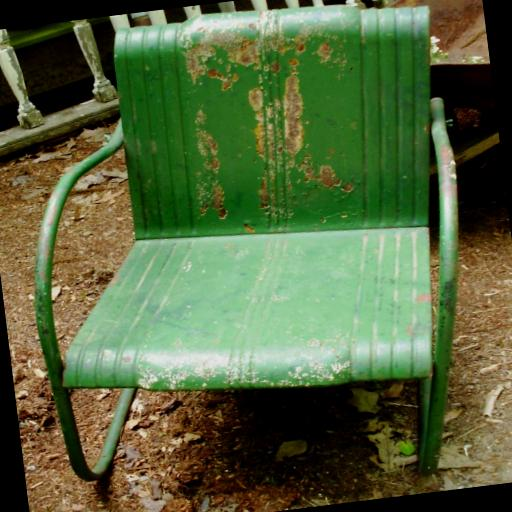segmentation: (192, 107, 221, 175)
